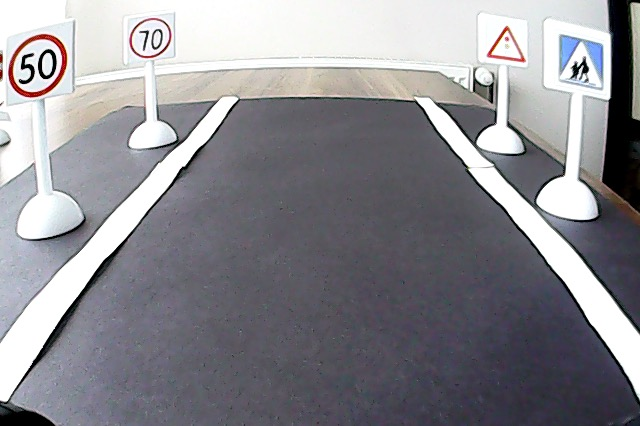red light: (484, 21, 527, 65)
school crossing: (554, 30, 607, 94)
speed limit 50: (11, 34, 69, 103)
speed limit 70: (127, 16, 172, 63)
